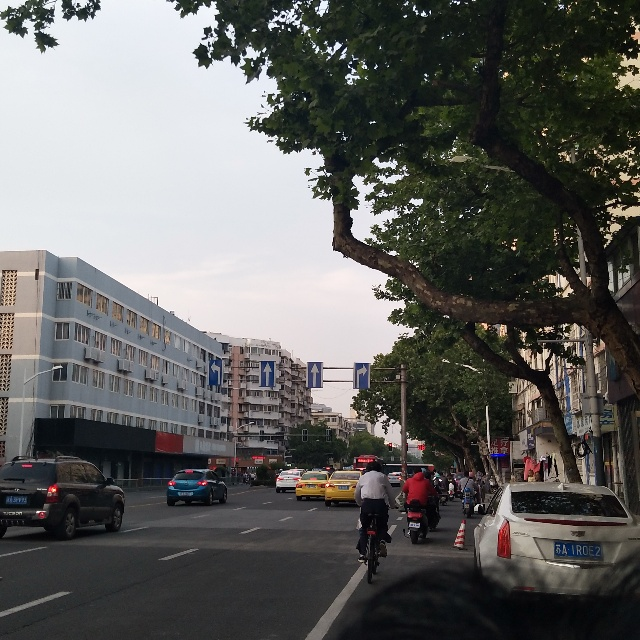left: (207, 359, 222, 389)
right: (350, 362, 369, 389)
straight: (258, 364, 276, 391), (307, 359, 320, 385)
